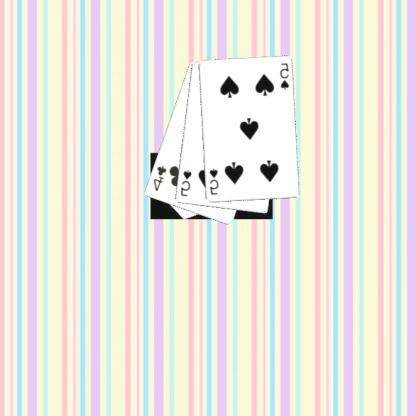4C: (152, 163, 169, 193)
5S: (180, 167, 194, 198), (208, 166, 222, 197), (278, 60, 292, 91)
